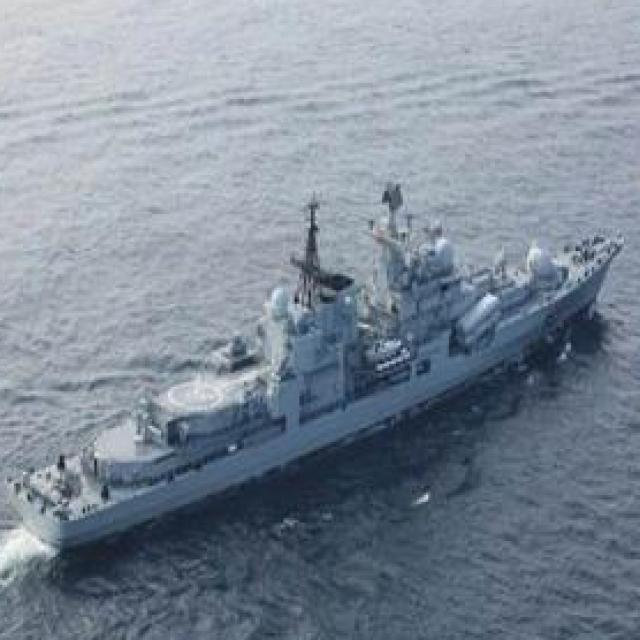navalvessels: (9, 183, 618, 550)
